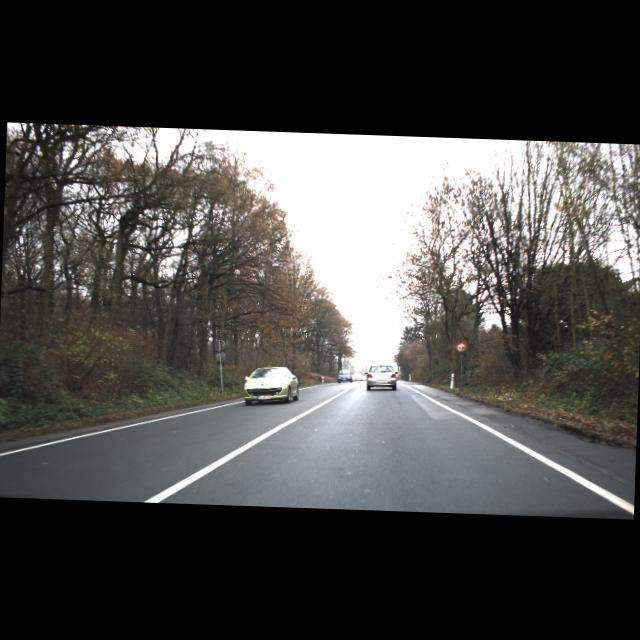prohibitory: (456, 341, 466, 352)
